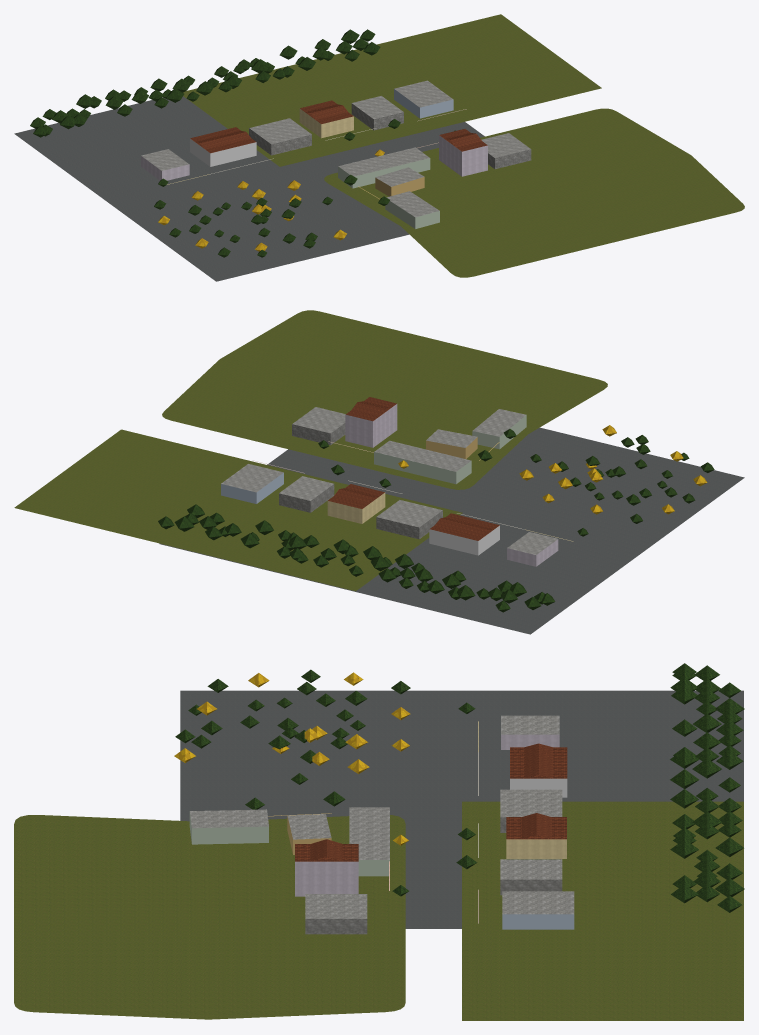
Rendered from cidade_S03_07_lod.gltf.
The picture shows the model from 3 angles, top to bottom: view 1: azimuth 30°, elevation 25°; view 2: azimuth 150°, elevation 25°; view 3: azimuth 270°, elevation 25°; orthographic projection. The views are drawn at different scales.
Visible parts, largest first — view 1: S03_07_Chao_LOD2, S03_07_Edificios_LOD1, S03_07_Vegetacao_LOD2, S03_07_Silhueta_LOD2; view 2: S03_07_Chao_LOD2, S03_07_Edificios_LOD1, S03_07_Vegetacao_LOD2, S03_07_Silhueta_LOD2; view 3: S03_07_Chao_LOD2, S03_07_Edificios_LOD1, S03_07_Vegetacao_LOD2, S03_07_Silhueta_LOD2.
Boxes of the visible parts, x1=… form: S03_07_Chao_LOD2: x1=14, y1=14, x2=744, y2=281; S03_07_Edificios_LOD1: x1=141, y1=80, x2=531, y2=228; S03_07_Vegetacao_LOD2: x1=30, y1=29, x2=455, y2=257; S03_07_Silhueta_LOD2: x1=190, y1=100, x2=487, y2=176; S03_07_Chao_LOD2: x1=14, y1=310, x2=744, y2=634; S03_07_Edificios_LOD1: x1=221, y1=401, x2=573, y2=566; S03_07_Vegetacao_LOD2: x1=158, y1=425, x2=714, y2=612; S03_07_Silhueta_LOD2: x1=327, y1=397, x2=499, y2=554; S03_07_Chao_LOD2: x1=14, y1=690, x2=743, y2=1020; S03_07_Edificios_LOD1: x1=189, y1=715, x2=574, y2=934; S03_07_Vegetacao_LOD2: x1=174, y1=663, x2=744, y2=912; S03_07_Silhueta_LOD2: x1=295, y1=747, x2=567, y2=896.
Bounding box in the file's own units: 140 × 9.1 × 130.
Materials: 15 (15 with a texture image).
